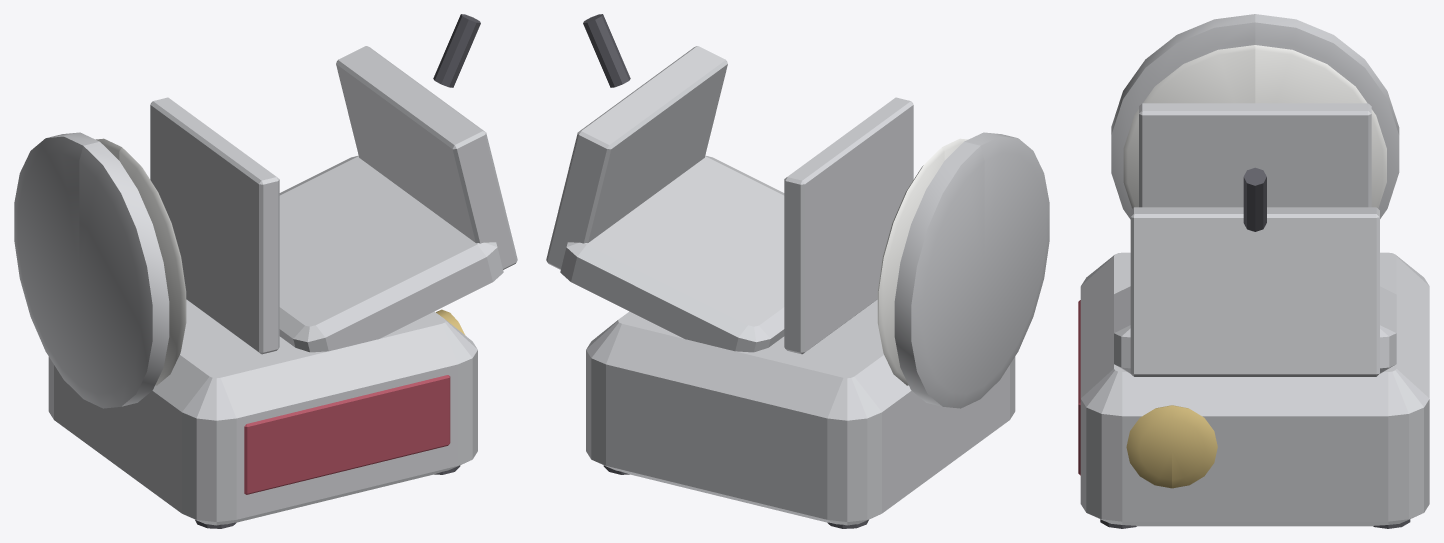
File: butchers-shop-and-deli-counter-meat-slicer-ba9355df__34449.glb
3 renders of one model, left to right at view 1: azimuth 30°, elevation 25°; view 2: azimuth 150°, elevation 25°; view 3: azimuth 270°, elevation 25°, orthographic. The views are drawn at different scales.
Visible parts, largest first — view 1: meat-slicer, slicer-blade; view 2: meat-slicer, slicer-blade; view 3: meat-slicer, slicer-blade.
Boxes of the visible parts, box(x1,y1,x2,y2) form: meat-slicer: box(14, 14, 517, 528); slicer-blade: box(96, 138, 186, 385); meat-slicer: box(546, 14, 1049, 528); slicer-blade: box(877, 138, 967, 385); meat-slicer: box(1078, 14, 1429, 528); slicer-blade: box(1123, 45, 1386, 208).
Size of the model in its own units: 0.5785 by 0.5263 by 0.423.
